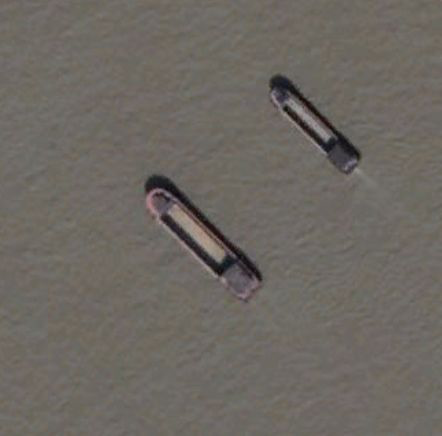boat: (145, 183, 265, 305), (268, 79, 362, 177)
